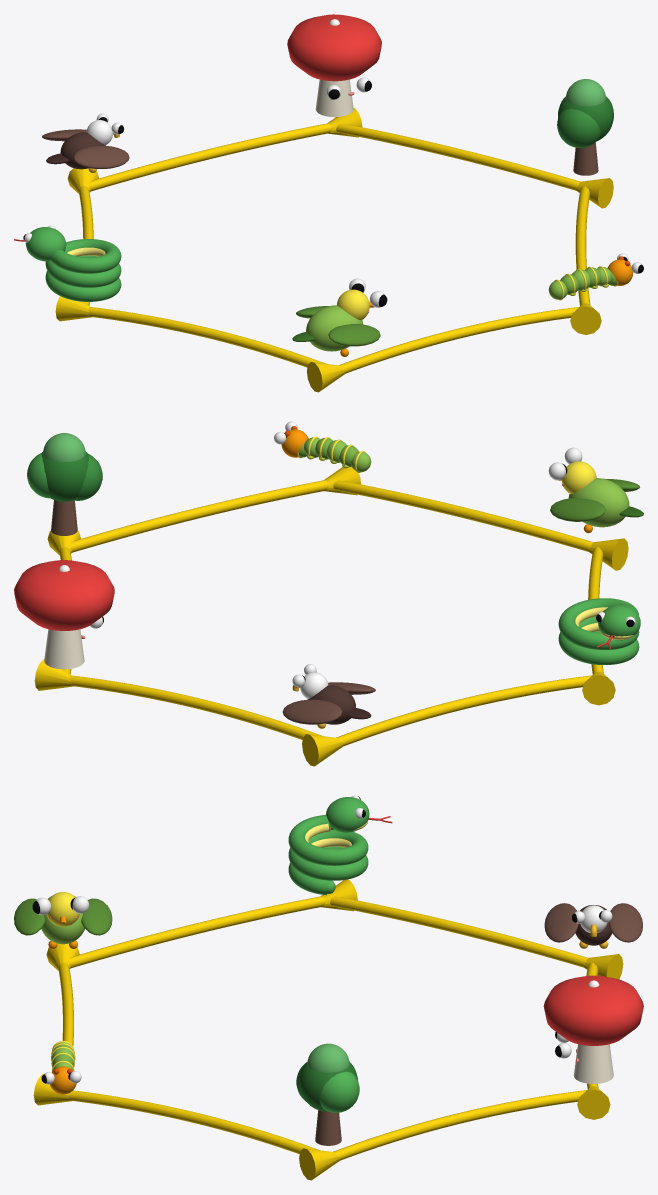
Rendered from eco_hutan_baked.glb.
3 views of the same model, one above another, from view 1: azimuth 30°, elevation 25°; view 2: azimuth 150°, elevation 25°; view 3: azimuth 270°, elevation 25° (orthographic). The views are drawn at different scales.
Visible parts, largest first — view 1: ecosystem_preset_group, object 14; view 2: ecosystem_preset_group, object 14; view 3: ecosystem_preset_group, object 14.
Boxes of the visible parts, bbox=[...] form: ecosystem_preset_group: bbox=[42, 14, 633, 392]; object 14: bbox=[25, 227, 66, 261]; ecosystem_preset_group: bbox=[14, 426, 643, 766]; object 14: bbox=[598, 605, 640, 640]; ecosystem_preset_group: bbox=[14, 814, 643, 1180]; object 14: bbox=[326, 797, 369, 832].
Bounding box in the file's own units: 5.06 × 1.02 × 4.52.
